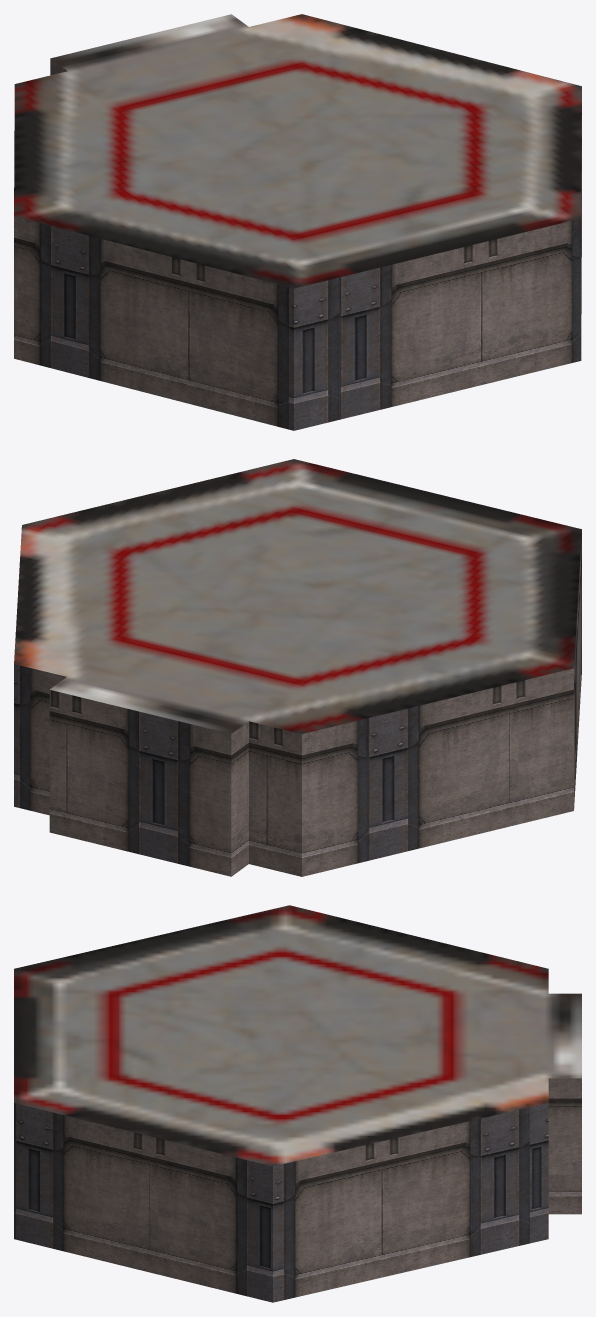
The model's file is bsealed_light_01.glb.
The picture shows the model from 3 angles, top to bottom: view 1: azimuth 30°, elevation 25°; view 2: azimuth 150°, elevation 25°; view 3: azimuth 270°, elevation 25°; orthographic projection. The views are drawn at different scales.
Parts seen in each view (by area): view 1: buildings/saxarba/bsealed_light/bsealed_light_01; view 2: buildings/saxarba/bsealed_light/bsealed_light_01; view 3: buildings/saxarba/bsealed_light/bsealed_light_01.
Part boxes in pixels (x1,y1,x2,y2): buildings/saxarba/bsealed_light/bsealed_light_01: (14,14,581,430); buildings/saxarba/bsealed_light/bsealed_light_01: (14,459,581,876); buildings/saxarba/bsealed_light/bsealed_light_01: (14,905,581,1302).
Bounding box in the file's own units: 74 × 18 × 68.
